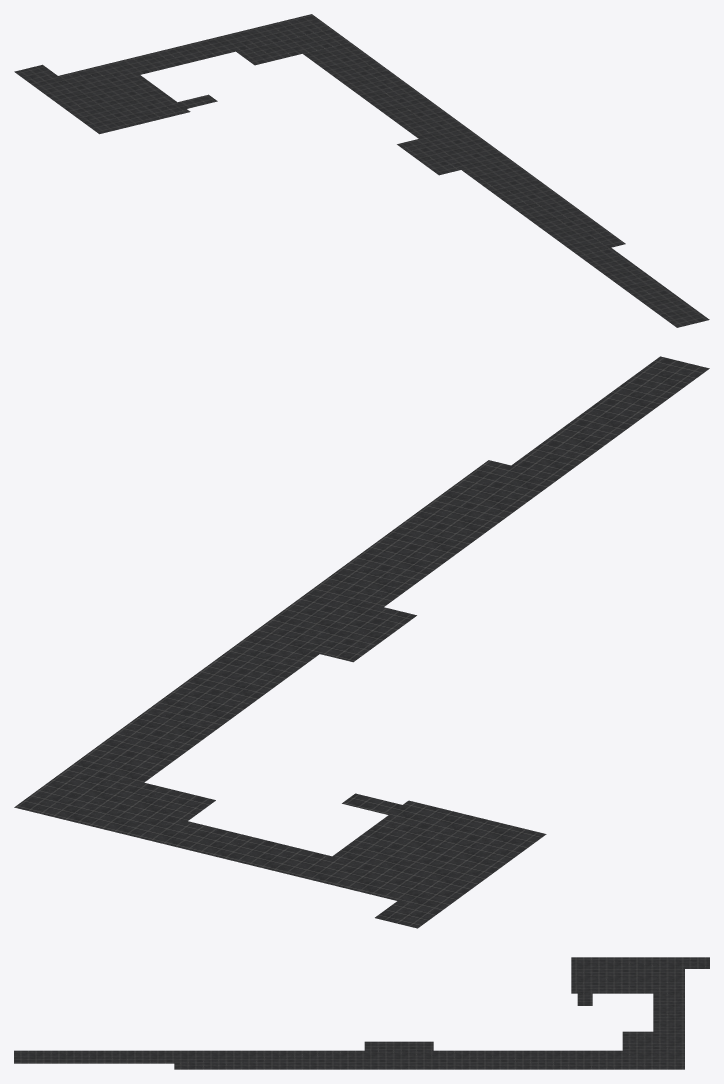
Rendered from SW_corridor__R_lobby_southHallway_Floor.FBX.
The picture shows the model from 3 angles, top to bottom: view 1: azimuth 30°, elevation 25°; view 2: azimuth 150°, elevation 25°; view 3: azimuth 270°, elevation 25°; orthographic projection. The views are drawn at different scales.
Parts seen in each view (by area): view 1: SW_corridor__R_lobby_southHallway_Floor; view 2: SW_corridor__R_lobby_southHallway_Floor; view 3: SW_corridor__R_lobby_southHallway_Floor.
Boxes of the visible parts, <box> form: SW_corridor__R_lobby_southHallway_Floor: <box>14,14,709,327</box>; SW_corridor__R_lobby_southHallway_Floor: <box>14,356,709,928</box>; SW_corridor__R_lobby_southHallway_Floor: <box>14,957,709,1069</box>.
Bounding box in the file's own units: 3102 × 8143 × 0.00133.
